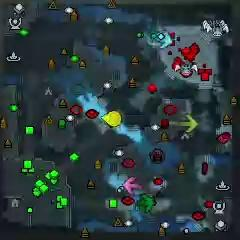p4: (101, 111, 122, 126)
x1: (123, 177, 142, 194)
x2: (180, 114, 198, 132)
x3: (155, 31, 172, 49)
x4: (137, 194, 155, 212)
